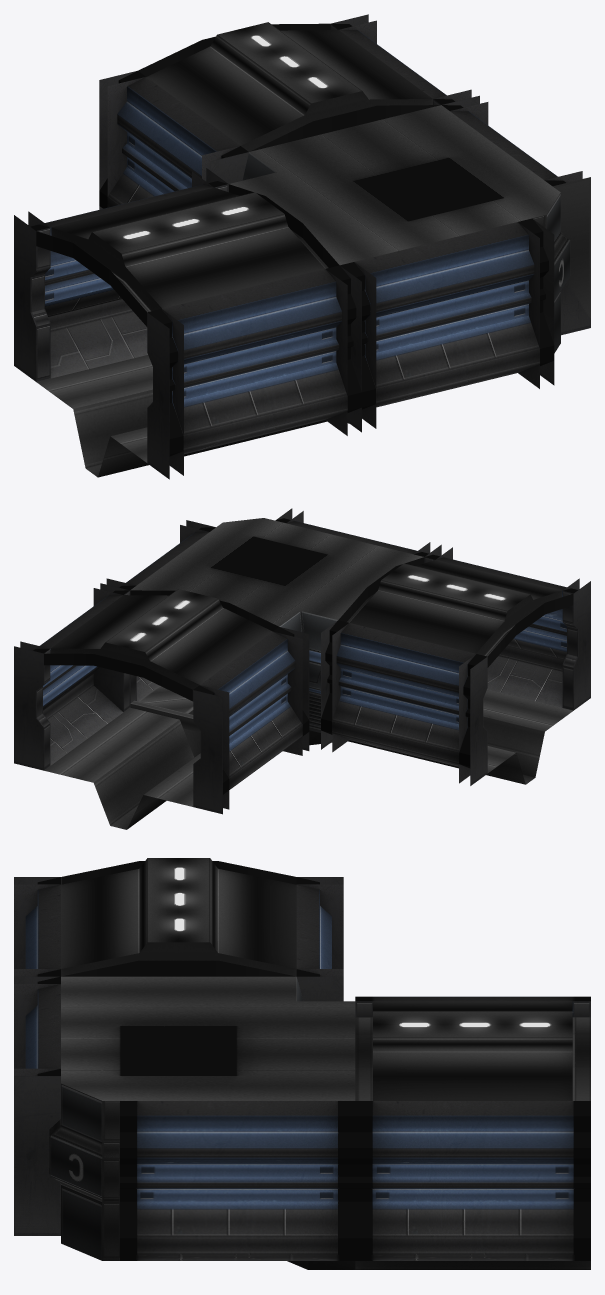
File: corridor_master_test.obj
3 renders of one model, top to bottom at view 1: azimuth 30°, elevation 25°; view 2: azimuth 150°, elevation 25°; view 3: azimuth 270°, elevation 25°, orthographic. The views are drawn at different scales.
Visible parts, largest first — view 1: Cube.004_Cube.009, Plane.004_Plane.012, Cube.003_Cube.008, Plane.003_Plane, Plane.005_Plane.013, Cube.005_Cube.001, Cube_Cube.002, Plane.006_Plane.014, Cube.006_Cube.011, Cube.001_Cube.006, Cube.002_Cube.007; view 2: Cube.005_Cube.001, Plane.004_Plane.012, Cube_Cube.002, Plane.003_Plane, Plane.005_Plane.013, Cube.002_Cube.007, Plane.001_Plane.006, Cube.004_Cube.009, Plane.006_Plane.014, Plane.002_Plane.007, Plane_Plane.002, Cube.001_Cube.006 (+1 smaller); view 3: Cube.002_Cube.007, Cube.001_Cube.006, Plane.004_Plane.012, Plane.005_Plane.013, Plane.003_Plane, Cube.003_Cube.008, Cube.006_Cube.011, Cube.005_Cube.001, Cube.004_Cube.009, Plane.001_Plane.006, Cube_Cube.002.
Boxes of the visible parts, box(x1,y1,x2,y2) form: Cube.004_Cube.009: box(147, 265, 361, 479); Plane.004_Plane.012: box(229, 105, 560, 265); Cube.003_Cube.008: box(340, 218, 554, 428); Plane.003_Plane: box(138, 22, 440, 151); Plane.005_Plane.013: box(36, 184, 339, 326); Cube.005_Cube.001: box(14, 168, 228, 381); Cube_Cube.002: box(99, 70, 248, 209); Plane.006_Plane.014: box(36, 355, 290, 477); Cube.006_Cube.011: box(532, 177, 590, 383); Cube.001_Cube.006: box(442, 95, 590, 335); Cube.002_Cube.007: box(330, 14, 471, 105); Cube.005_Cube.001: box(321, 620, 487, 785); Plane.004_Plane.012: box(130, 518, 423, 626); Cube_Cube.002: box(193, 627, 309, 814); Plane.003_Plane: box(44, 589, 278, 701); Plane.005_Plane.013: box(338, 557, 573, 667); Cube.002_Cube.007: box(14, 583, 129, 770); Plane.001_Plane.006: box(44, 707, 200, 829); Cube.004_Cube.009: box(424, 544, 590, 710); Plane.006_Plane.014: box(376, 689, 573, 784); Plane.002_Plane.007: box(130, 686, 376, 757); Plane_Plane.002: box(279, 611, 337, 732); Cube.001_Cube.006: box(106, 520, 215, 703); Cube.002_Cube.007: box(355, 1101, 590, 1260); Cube.001_Cube.006: box(120, 1101, 355, 1260); Plane.004_Plane.012: box(61, 976, 355, 1100); Plane.005_Plane.013: box(61, 858, 296, 976); Plane.003_Plane: box(355, 1001, 590, 1100); Cube.003_Cube.008: box(14, 976, 60, 1235); Cube.006_Cube.011: box(14, 1076, 119, 1260); Cube.005_Cube.001: box(296, 877, 343, 1001); Cube.004_Cube.009: box(14, 877, 60, 983); Plane.001_Plane.006: box(355, 1261, 590, 1269); Cube_Cube.002: box(355, 996, 590, 1017).
Bounding box in the file's own units: 9.8 × 4.5 × 9.8.
